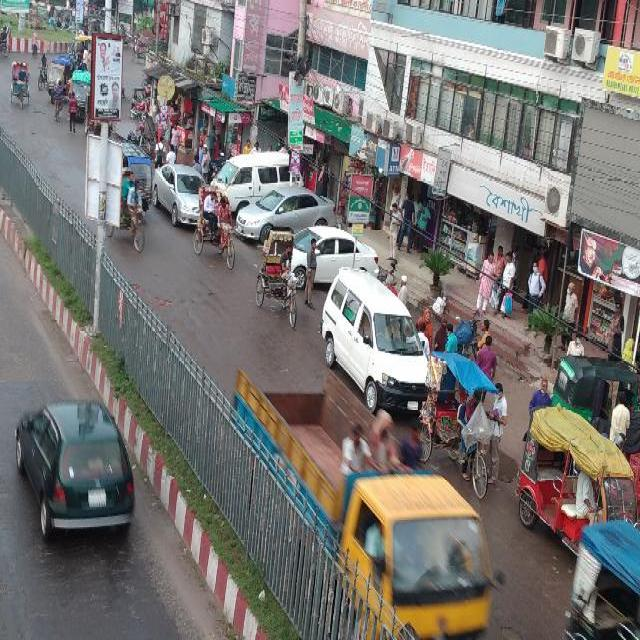10: (454, 308, 476, 352), (130, 96, 148, 120), (125, 126, 146, 141)
13: (423, 353, 489, 494), (256, 229, 298, 325), (193, 185, 235, 268), (120, 166, 146, 250), (10, 61, 26, 106), (128, 36, 146, 61)
17: (554, 356, 638, 426)
18: (237, 366, 493, 630)
19: (320, 266, 428, 411), (210, 151, 302, 210)
5: (15, 400, 136, 536), (236, 187, 336, 240), (294, 224, 378, 285), (152, 164, 204, 226)
Car: (520, 406, 638, 544), (122, 140, 152, 210), (46, 55, 70, 102), (72, 69, 86, 118)
Motorcycle: (52, 96, 62, 120), (36, 64, 46, 87)
